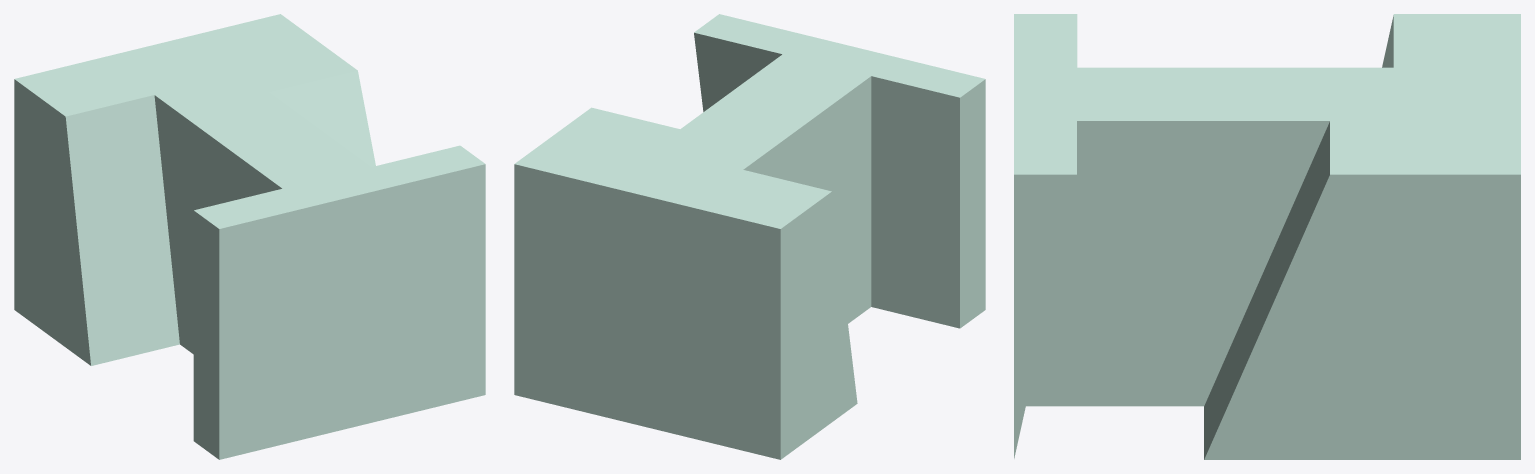
3 views of the same model, side by side, from view 1: azimuth 30°, elevation 25°; view 2: azimuth 150°, elevation 25°; view 3: azimuth 270°, elevation 25° (orthographic). The views are drawn at different scales.
Visible parts, largest first — view 1: Renderer Node; view 2: Renderer Node; view 3: Renderer Node.
Boxes of the visible parts, bbox=[...] form: Renderer Node: bbox=[14, 14, 485, 459]; Renderer Node: bbox=[514, 14, 985, 459]; Renderer Node: bbox=[1014, 14, 1520, 459].
Size of the model in its own units: 0.5625 by 0.4658 by 0.75.
